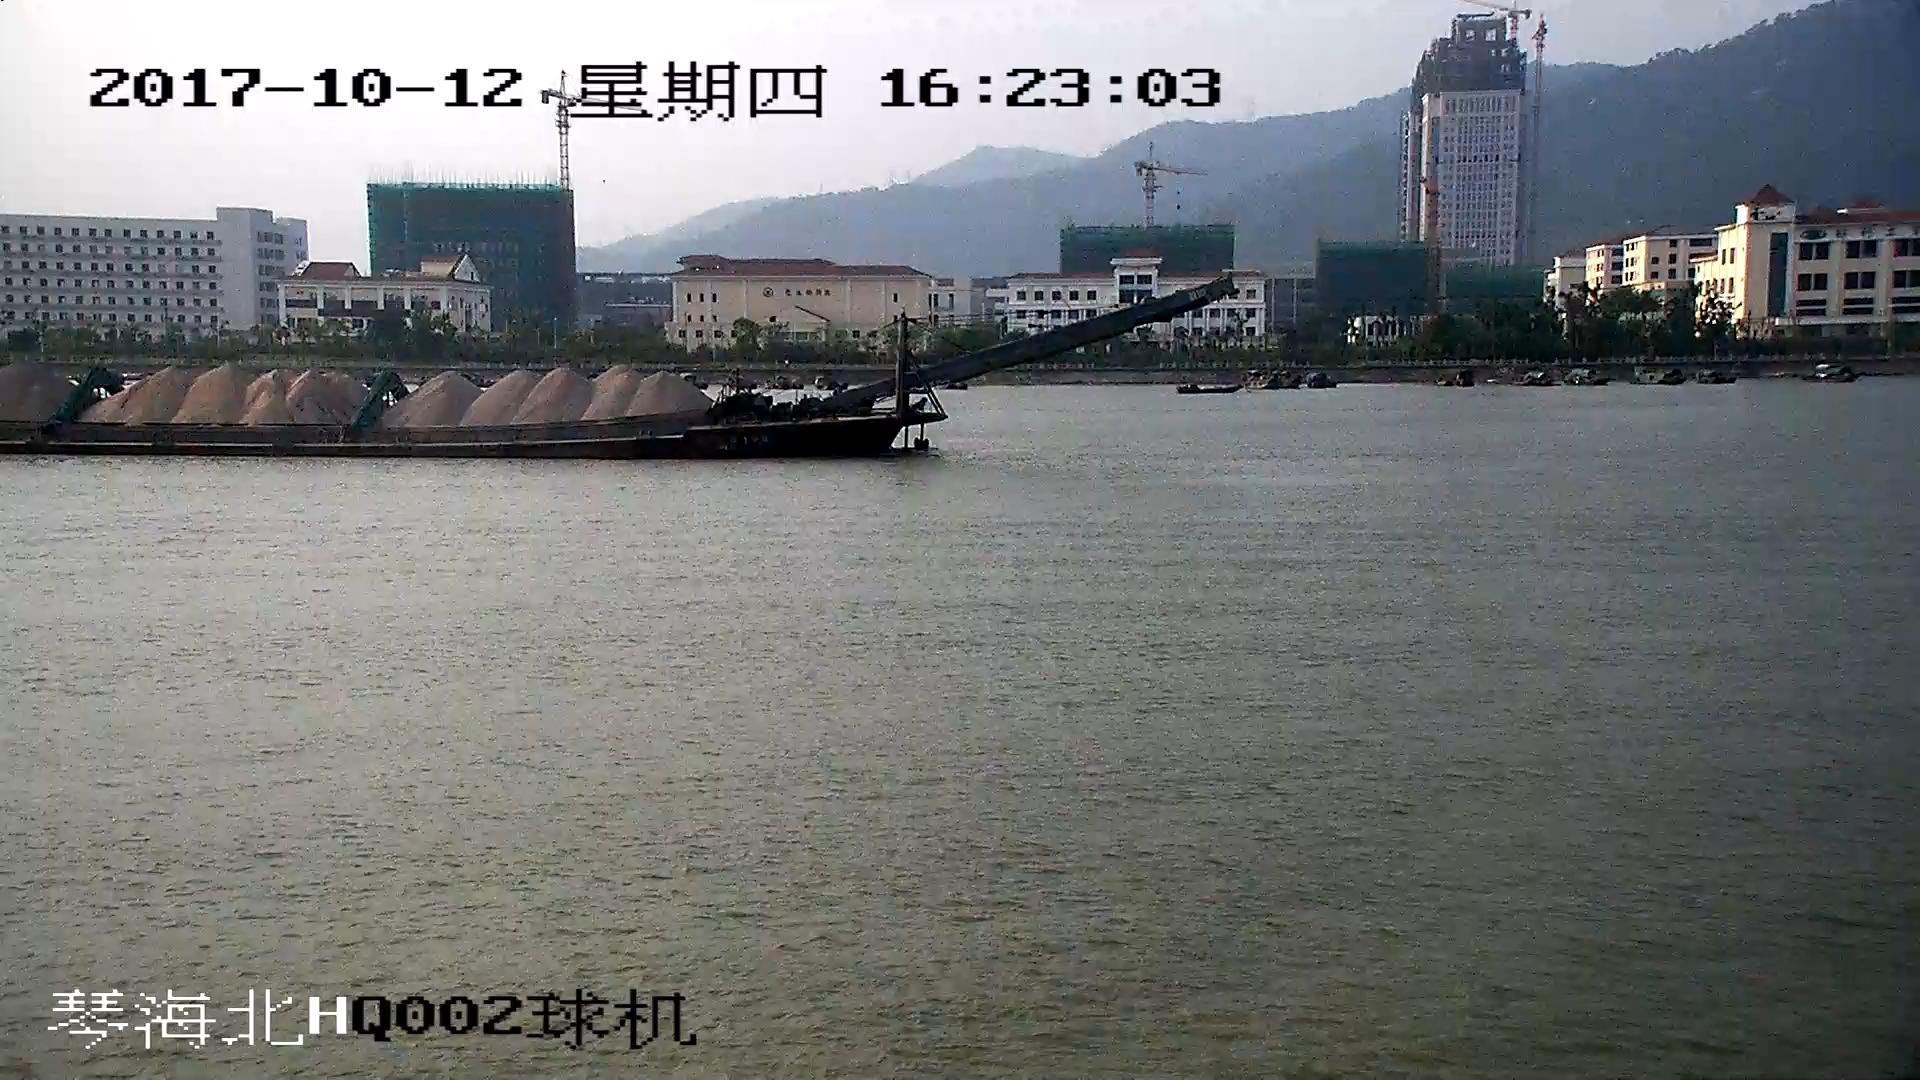ore carrier: (1, 282, 1232, 454)
